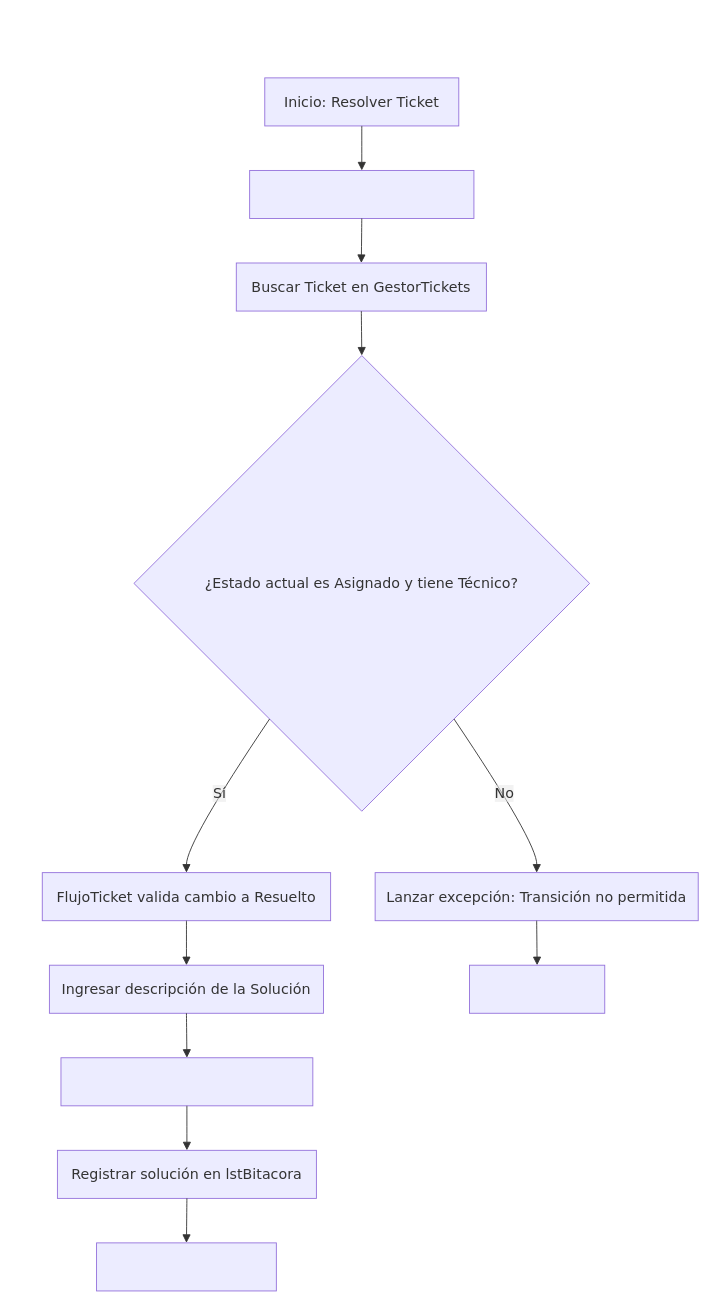
This 714x1307 diagram has some shape labels left out. Here are the shapes that lost their labels. From the top down, the centre of each, then its label:
At (x=361, y=194): "Ingresar número del Ticket".
At (x=537, y=988): "Fin con Error".
At (x=186, y=1081): "Actualizar strEstado a Resuelto".
At (x=186, y=1266): "Fin: Ticket Resuelto".
